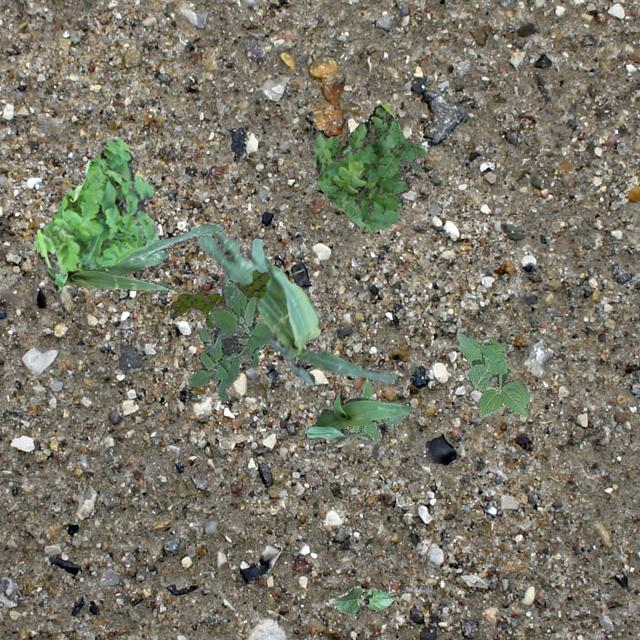crop: (196, 230, 397, 384), (45, 224, 224, 292), (304, 388, 412, 441), (328, 584, 393, 614)
weed: (31, 137, 158, 290), (308, 104, 424, 230), (186, 274, 272, 400), (456, 332, 528, 416), (170, 268, 268, 326), (342, 378, 408, 442), (396, 160, 420, 208)
